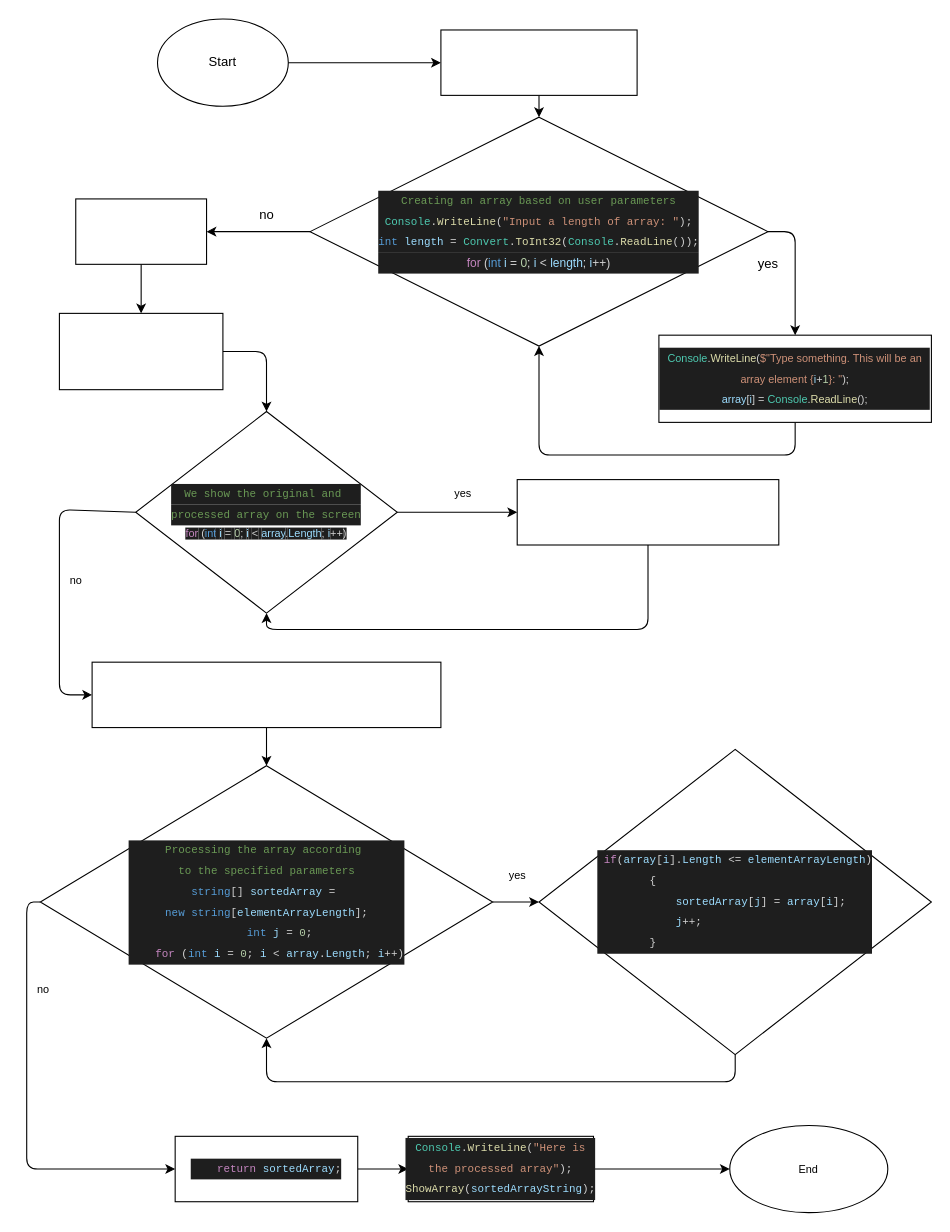
Image size: 950x1232. Some labels were removed from this diagram. The shapes that lost their labels are listed below. From the top down, each one's centre as x and y in pixels, then its label:
point (538, 62): string [] arrayString = CreateArrayString ();
point (141, 231): return array ;
point (140, 351): Console . WriteLine ( "Here is the original array" ); ShowArray ( arrayString );
point (647, 512): Console . Write ( " \t " + array [ i ] + " \t " );
point (266, 694): string [] sortedArrayString = CreateSortedArrayString ( arrayString , 3 );
